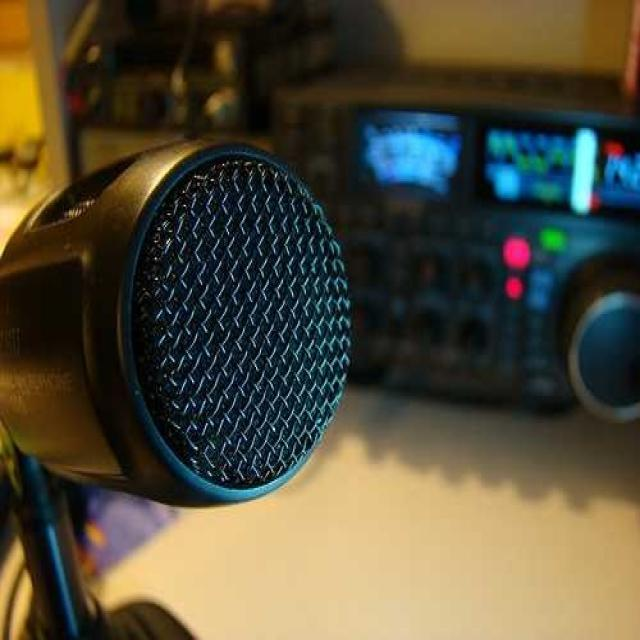microphone: (24, 137, 342, 494)
